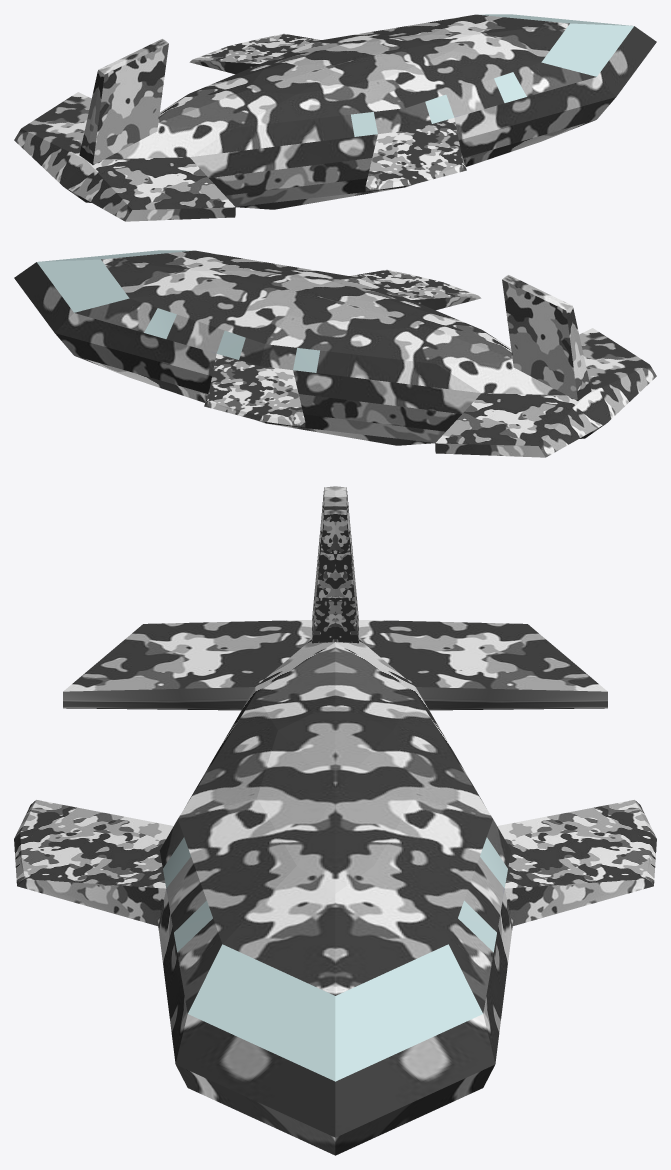
File: HumanBomberV2.fbx
3 views of the same model, one above another, from view 1: azimuth 30°, elevation 25°; view 2: azimuth 150°, elevation 25°; view 3: azimuth 270°, elevation 25° (orthographic). The views are drawn at different scales.
Parts seen in each view (by area): view 1: Body, Windows; view 2: Body, Windows; view 3: Body, Windows.
Boxes of the visible parts, box(x1,y1,x2,y2) form: Body: box(14, 14, 656, 221); Windows: box(351, 14, 633, 136); Body: box(14, 250, 656, 457); Windows: box(37, 250, 319, 372); Body: box(14, 486, 656, 1155); Windows: box(163, 837, 507, 1081).
Bounding box in the file's own units: 21.21 × 6.05 × 11.52.
Materials: 2 (1 with a texture image).
